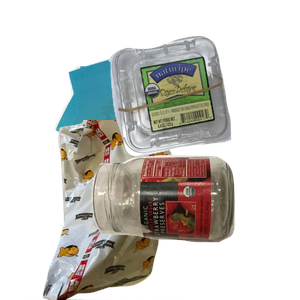glass: (89, 153, 300, 300)
paper: (52, 49, 209, 198)
plastic: (106, 34, 300, 183)
trash: (25, 120, 198, 300)
